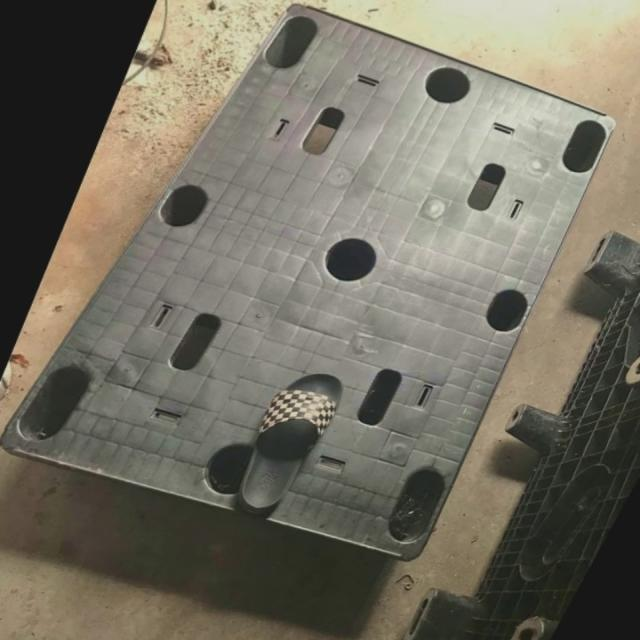non-igps: (0, 0, 622, 567), (396, 226, 639, 640)
